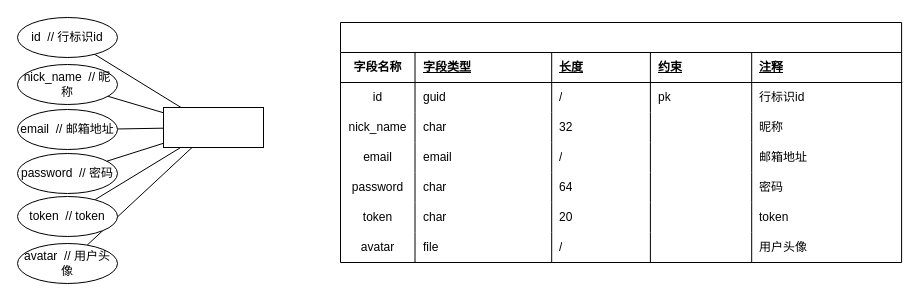
Some shapes in this 920 by 301 pixel diagram are drawn without their labels. Each missing label, with the box of its shape:
Table: (340, 22, 902, 262)
UserInfo // 用户信息表: (162, 106, 264, 148)
